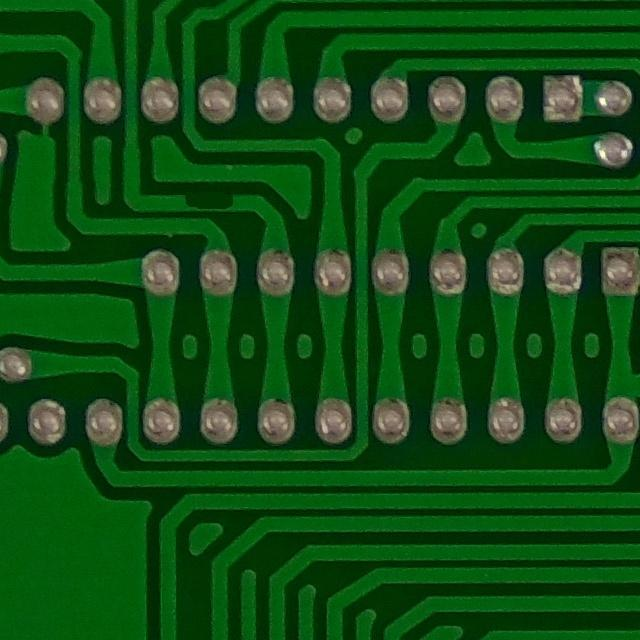mouse_bite: (170, 183, 245, 219)
